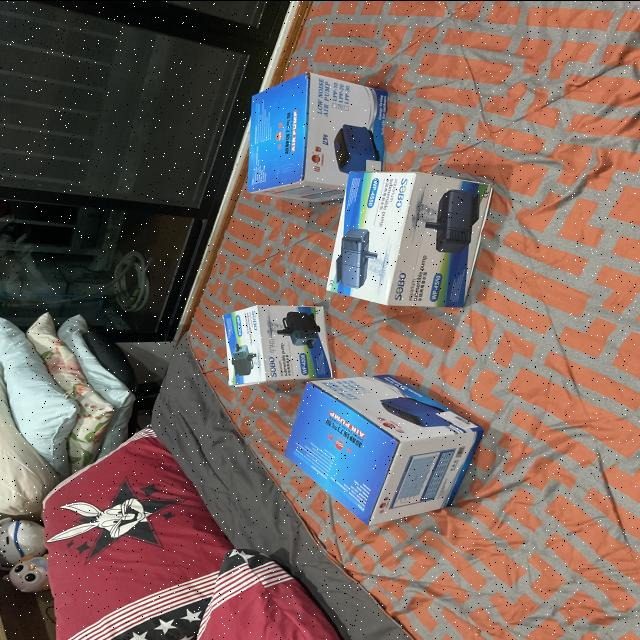SOBO_WP_4200: (319, 158, 512, 313), (219, 296, 335, 392)
YAMANO_LPP_20: (271, 366, 481, 526), (235, 64, 383, 208)
